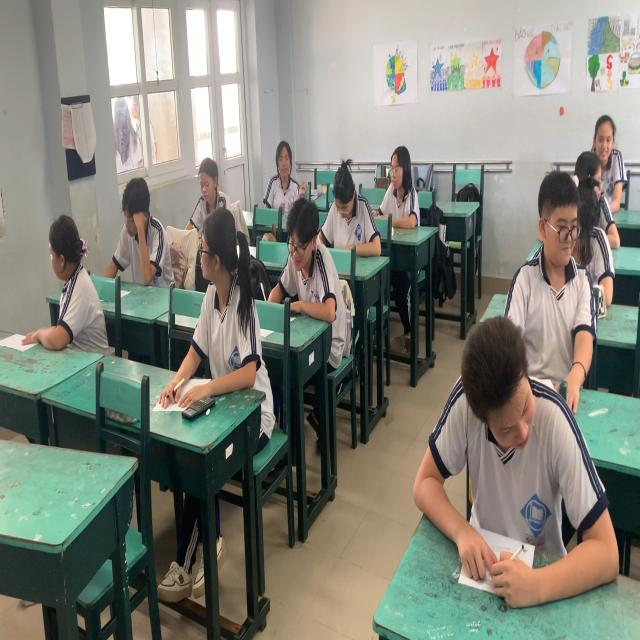cheating: (510, 174, 589, 398), (184, 206, 266, 391), (36, 212, 96, 344)
not_cheating: (410, 319, 601, 600), (268, 198, 339, 319), (322, 153, 386, 267), (119, 170, 164, 287), (377, 143, 427, 243), (583, 108, 628, 208), (272, 140, 308, 204), (194, 149, 229, 209)
